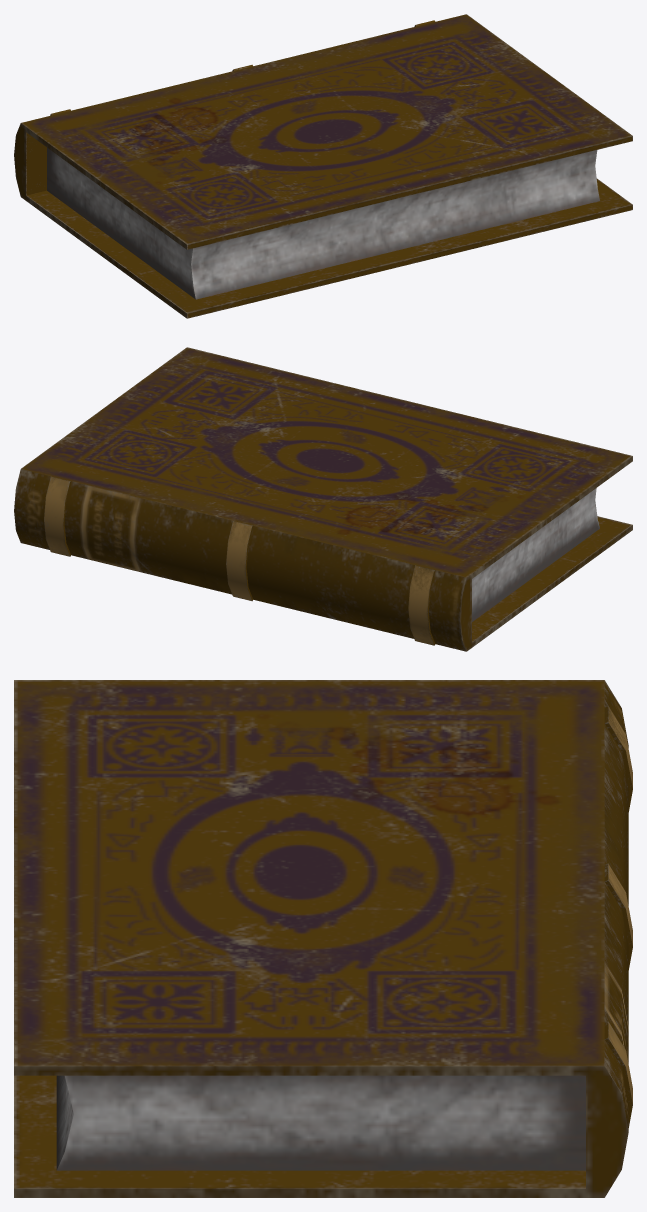
The model's file is Book.fbx.
The picture shows the model from 3 angles, top to bottom: view 1: azimuth 30°, elevation 25°; view 2: azimuth 150°, elevation 25°; view 3: azimuth 270°, elevation 25°; orthographic projection. The views are drawn at different scales.
Parts seen in each view (by area): view 1: Book; view 2: Book; view 3: Book.
Part boxes in pixels (x1,y1,x2,y2): Book: (14,14,632,318); Book: (14,347,632,651); Book: (14,680,632,1197).
Bounding box in the file's own units: 10.71 × 1.74 × 7.25.
Materials: 1 (1 with a texture image).
